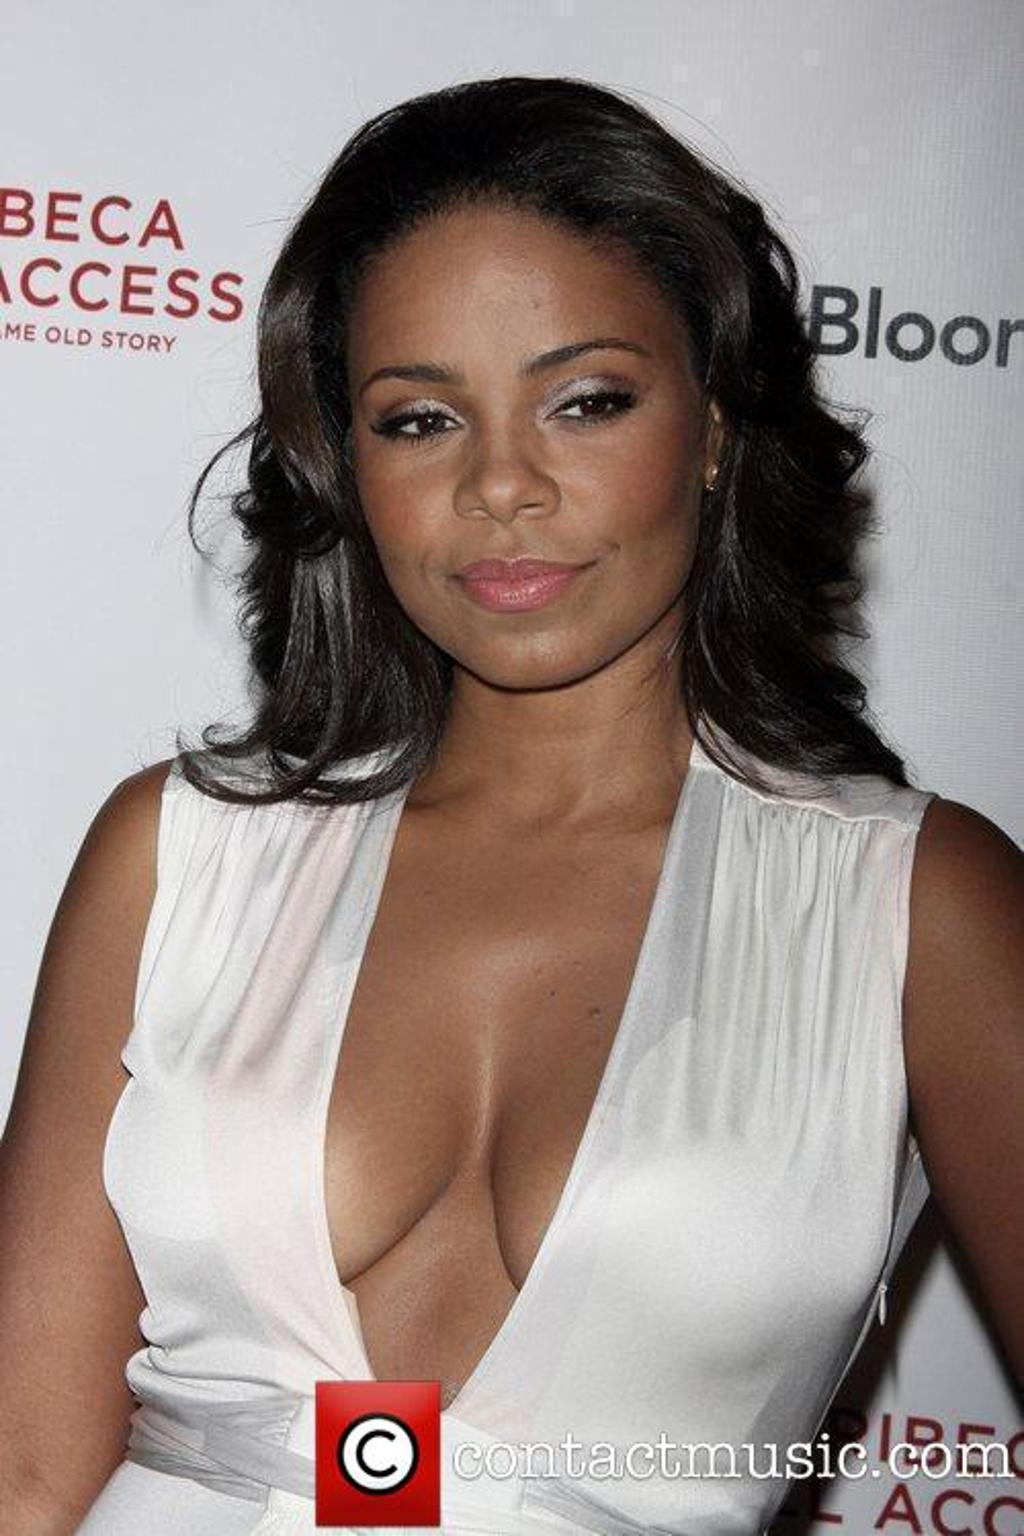face: (351, 204, 702, 693)
